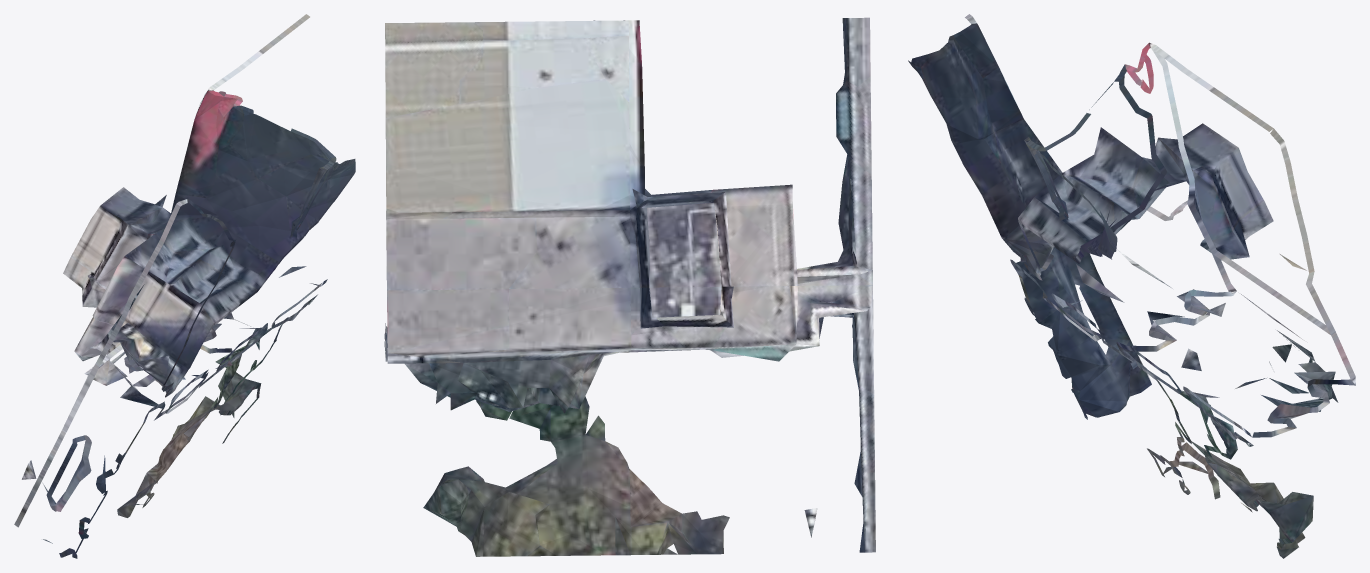
3 renders of one model, left to right at view 1: azimuth 30°, elevation 25°; view 2: azimuth 150°, elevation 25°; view 3: azimuth 270°, elevation 25°, orthographic. The views are drawn at different scales.
Bounding box in the file's own units: 36 × 40.11 × 34.04.
2 materials, 2 textured.
